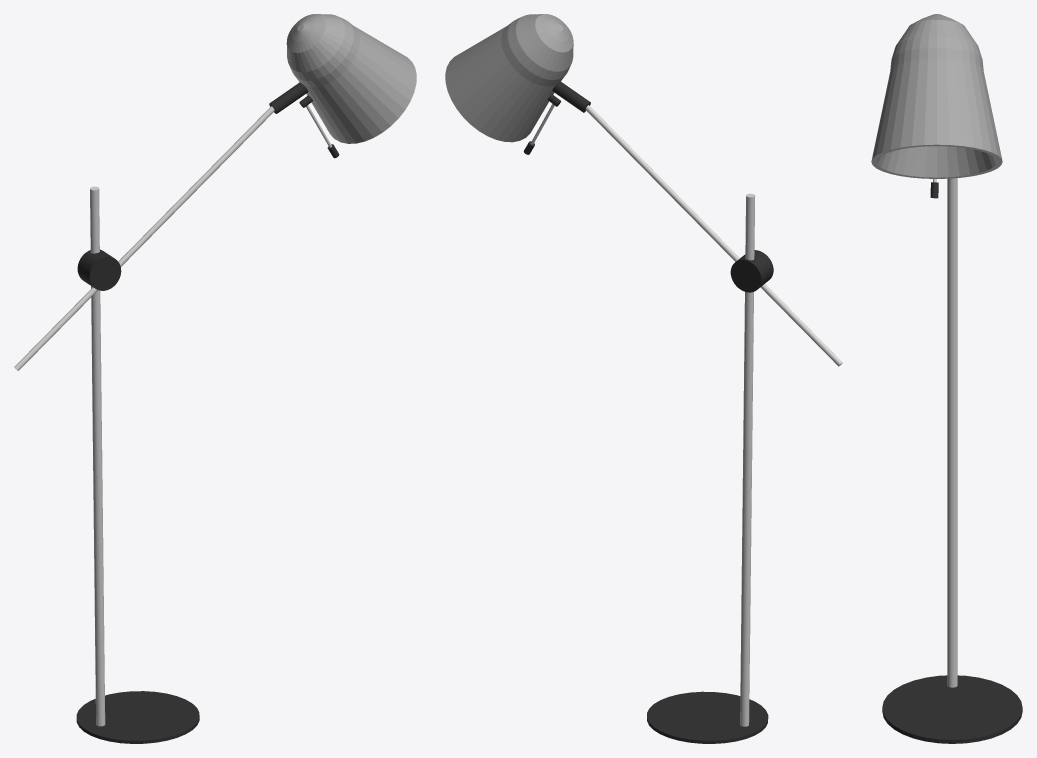
File: lamp.obj
3 views of the same model, side by side, from view 1: azimuth 30°, elevation 25°; view 2: azimuth 150°, elevation 25°; view 3: azimuth 270°, elevation 25° (orthographic). The views are drawn at different scales.
Parts seen in each view (by area): view 1: Cilindro.004; view 2: Cilindro.004; view 3: Cilindro.004.
Boxes of the visible parts, box(x1,y1,x2,y2) form: Cilindro.004: box(14, 14, 416, 743); Cilindro.004: box(445, 14, 842, 743); Cilindro.004: box(871, 14, 1022, 743).
Bounding box in the file's own units: 0.8124 × 1.32 × 0.2265.
Materials: 1 (1 with a texture image).
